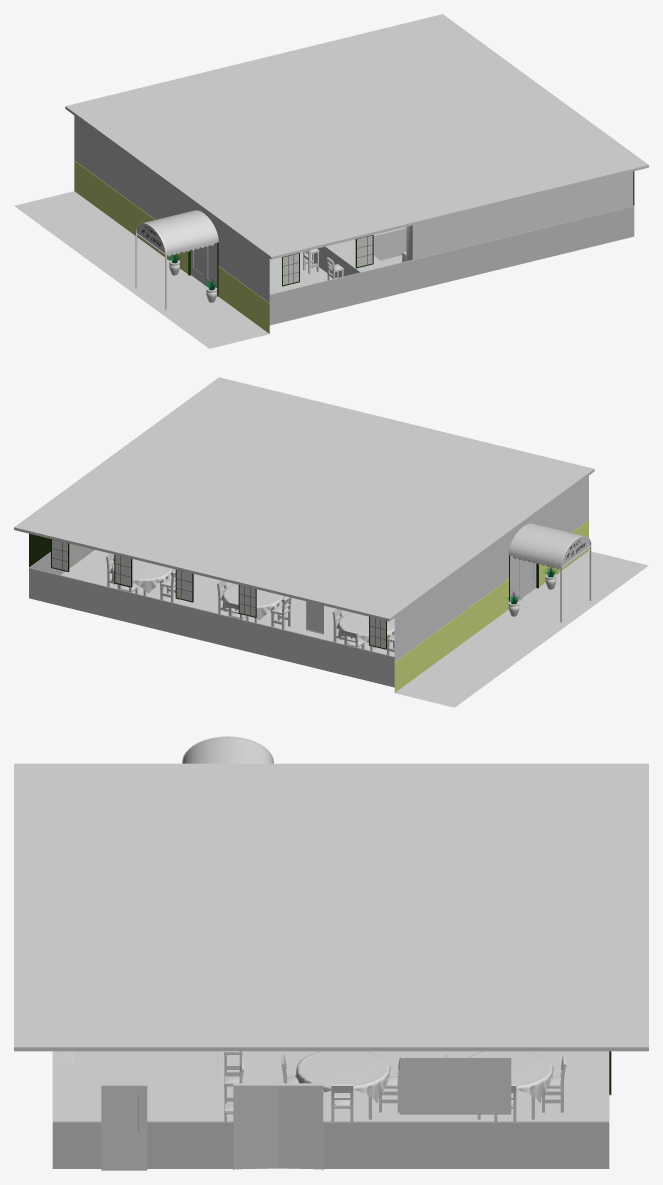
File: escenario6.FBX
The picture shows the model from 3 angles, top to bottom: view 1: azimuth 30°, elevation 25°; view 2: azimuth 150°, elevation 25°; view 3: azimuth 270°, elevation 25°; orthographic projection. The views are drawn at different scales.
Parts seen in each view (by area): view 1: Plane007, madera2, Plane008, Box003, fachada1, fachada2, toldo, barrabar, suelo, maderabarra, barandilla; view 2: Plane007, madera1, Plane008, fachada1, suelo, fachada2, toldo, telamesa002, telamesa001, telamesa, madera4, Rectangle001 (+3 smaller); view 3: Plane007, madera4, suelo, PivotDoor003, marco, PivotDoor002, telamesa003, maderabarra, Box003, toldo, telamesa002, Silla030 (+1 smaller).
Part boxes in pixels (<box>): Plane007: <box>65,14,648,259</box>; madera2: <box>269,206,634,325</box>; Plane008: <box>14,191,269,348</box>; Box003: <box>402,171,633,261</box>; fachada1: <box>74,116,269,302</box>; fachada2: <box>74,160,269,333</box>; toldo: <box>136,210,218,256</box>; barrabar: <box>314,230,406,277</box>; suelo: <box>190,252,402,294</box>; maderabarra: <box>324,227,406,272</box>; barandilla: <box>135,222,218,309</box>; Plane007: <box>14,377,594,621</box>; madera1: <box>29,567,394,687</box>; Plane008: <box>394,551,648,707</box>; fachada1: <box>394,476,588,661</box>; suelo: <box>60,550,536,656</box>; fachada2: <box>394,520,589,692</box>; toldo: <box>508,523,590,569</box>; telamesa002: <box>110,559,173,593</box>; telamesa001: <box>221,584,284,620</box>; telamesa: <box>337,612,394,648</box>; madera4: <box>29,543,94,574</box>; Rectangle001: <box>29,533,50,567</box>; Plane007: <box>14,763,648,1051</box>; madera4: <box>52,1121,609,1168</box>; suelo: <box>53,1051,608,1168</box>; PivotDoor003: <box>233,1083,323,1170</box>; marco: <box>399,1057,511,1114</box>; PivotDoor002: <box>101,1083,147,1170</box>; telamesa003: <box>295,1051,391,1102</box>; maderabarra: <box>172,1051,217,1121</box>; Box003: <box>56,1051,88,1121</box>; toldo: <box>182,737,273,763</box>; telamesa002: <box>468,1051,554,1102</box>; Silla030: <box>331,1084,353,1121</box>.
Size of the model in its own units: 1754 by 309 by 1437.
